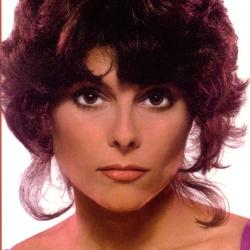face: (4, 1, 240, 218)
